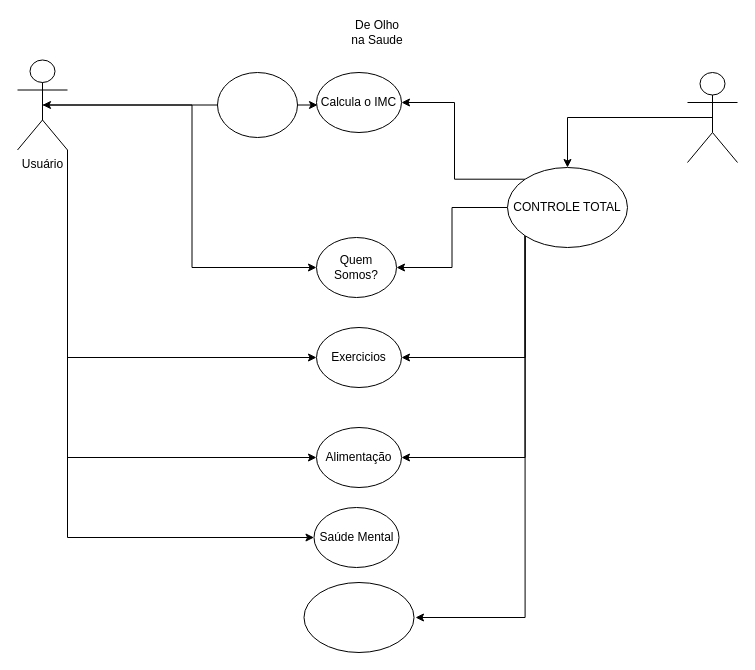
Some shapes in this 755 by 670 pixel diagram are drawn without their labels. The centre of each missing label's shape, as x and y in pixels:
DEV: (712,117)
Insere os dados: (257,105)
Perguntas Frenquentes: (358,617)
